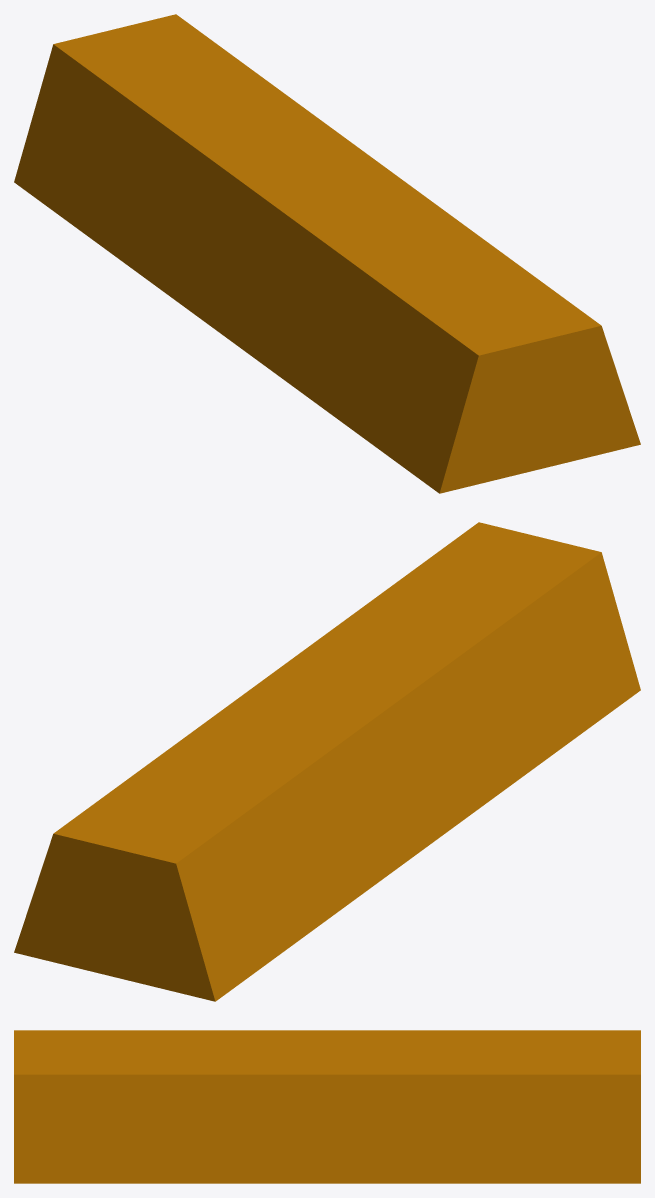
Rendered from CopperIngot.fbx.
3 renders of one model, top to bottom at view 1: azimuth 30°, elevation 25°; view 2: azimuth 150°, elevation 25°; view 3: azimuth 270°, elevation 25°, orthographic. The views are drawn at different scales.
Parts seen in each view (by area): view 1: CopperIngot; view 2: CopperIngot; view 3: CopperIngot.
Part boxes in pixels (bbox=[...]): CopperIngot: bbox=[14, 14, 640, 493]; CopperIngot: bbox=[14, 522, 640, 1001]; CopperIngot: bbox=[14, 1030, 640, 1183].
Size of the model in its own units: 8.2 by 5 by 30.
